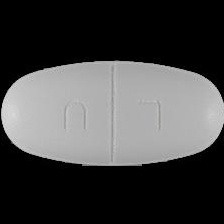0615-7979: (0, 0, 224, 224)
